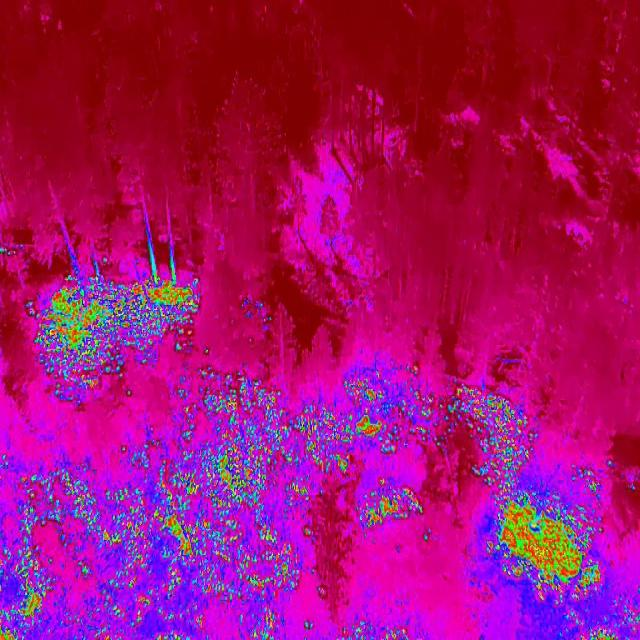fire: (0, 444, 315, 640), (172, 362, 538, 482), (29, 270, 199, 400), (485, 469, 599, 640), (355, 482, 421, 530), (334, 607, 414, 640), (599, 581, 640, 640), (230, 294, 280, 336)
